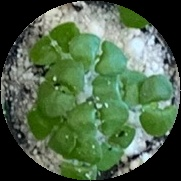Basil: (139, 67, 181, 138), (38, 65, 84, 118), (30, 22, 78, 64), (73, 36, 123, 75), (30, 113, 76, 155), (97, 125, 137, 170), (94, 70, 147, 97), (67, 143, 100, 181), (76, 102, 127, 125)
